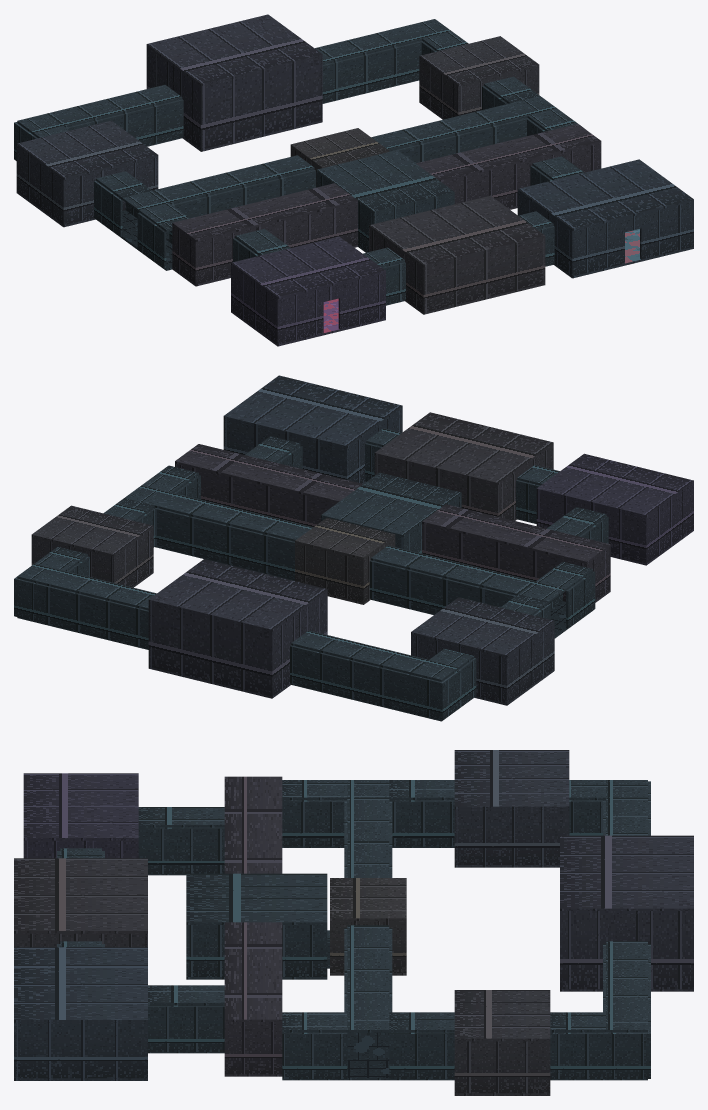
File: office_map_shell.glb
3 views of the same model, one above another, from view 1: azimuth 30°, elevation 25°; view 2: azimuth 150°, elevation 25°; view 3: azimuth 270°, elevation 25° (orthographic). The views are drawn at different scales.
Parts seen in each view (by area): view 1: Loading_Walls, DiningB_Ceiling, Loading_Ceiling, DiningA_Ceiling, DiningA_Walls, Arcade_Walls, DiningB_Walls, LinkBayE2, Arcade_Ceiling, WestHall_Walls, LinkElecW, LinkElecE (+27 smaller); view 2: Loading_Walls, LinkElecE, DiningB_Ceiling, DiningA_Ceiling, Loading_Ceiling, LinkBayW2, LinkElecW, LinkBayE2, Arcade_Ceiling, Arcade_Walls, Office_Ceiling, Storage_Ceiling (+25 smaller); view 3: Loading_Ceiling, DiningA_Ceiling, DiningB_Ceiling, Loading_Walls, Arcade_Ceiling, DiningB_Walls, Office_Ceiling, Storage_Ceiling, Storage_Walls, EastHall_Ceiling, WestHall_Ceiling, LinkArcade (+23 smaller).
Boxes of the visible parts, x1,y1,x2,y2 form: Loading_Walls: [146, 46, 322, 149]; DiningB_Ceiling: [517, 159, 693, 230]; Loading_Ceiling: [146, 14, 322, 85]; DiningA_Ceiling: [369, 195, 545, 267]; DiningA_Walls: [369, 227, 545, 312]; Arcade_Walls: [231, 265, 385, 344]; DiningB_Walls: [517, 191, 693, 276]; LinkBayE2: [315, 26, 422, 103]; Arcade_Ceiling: [231, 236, 385, 298]; WestHall_Walls: [172, 202, 357, 284]; LinkElecW: [153, 155, 315, 242]; LinkElecE: [371, 103, 527, 163]; Loading_Walls: [148, 591, 327, 696]; LinkElecE: [154, 492, 313, 580]; DiningB_Ceiling: [223, 375, 402, 448]; DiningA_Ceiling: [374, 412, 553, 484]; Loading_Ceiling: [148, 559, 327, 631]; LinkBayW2: [290, 630, 428, 713]; LinkElecW: [369, 545, 535, 614]; LinkBayE2: [46, 571, 156, 649]; Arcade_Ceiling: [536, 453, 693, 517]; Arcade_Walls: [536, 483, 693, 563]; Office_Ceiling: [321, 472, 461, 537]; Storage_Ceiling: [411, 597, 554, 657]; Loading_Ceiling: [560, 835, 693, 910]; DiningA_Ceiling: [14, 858, 147, 933]; DiningB_Ceiling: [14, 947, 147, 1022]; Loading_Walls: [560, 911, 693, 989]; Arcade_Ceiling: [23, 773, 138, 840]; DiningB_Walls: [14, 1022, 147, 1078]; Office_Ceiling: [186, 873, 327, 924]; Storage_Ceiling: [454, 750, 569, 809]; Storage_Walls: [454, 809, 569, 864]; EastHall_Ceiling: [224, 922, 282, 1021]; WestHall_Ceiling: [224, 776, 282, 873]; LinkArcade: [138, 807, 224, 875].
Size of what is drawn, in the model's own units: 35.2 by 4.8 by 35.5.
Materials: 1 (1 with a texture image).
